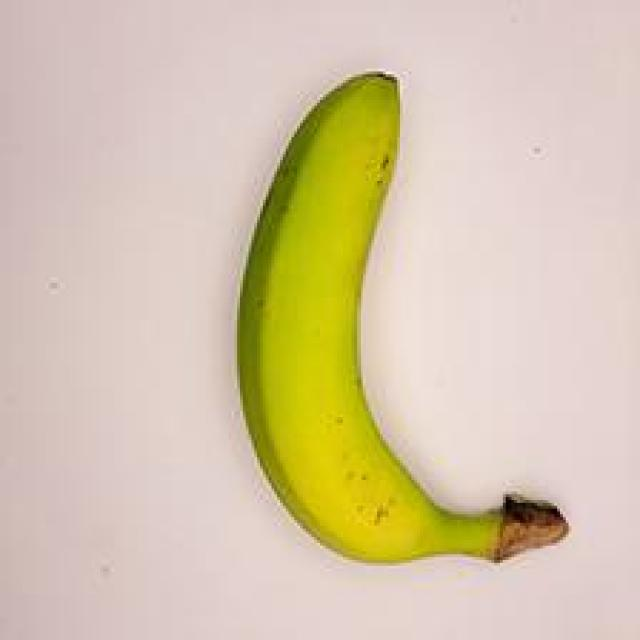Unripe: (214, 55, 591, 596)
